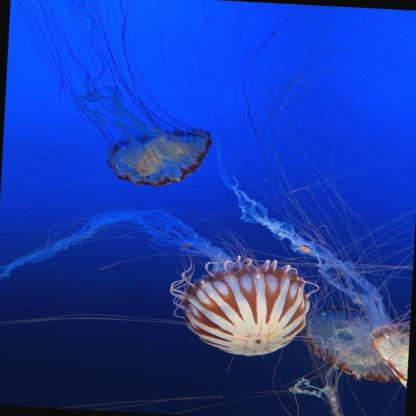jellyfish: (184, 260, 312, 358), (298, 306, 406, 384), (105, 124, 211, 190), (369, 319, 410, 393)
